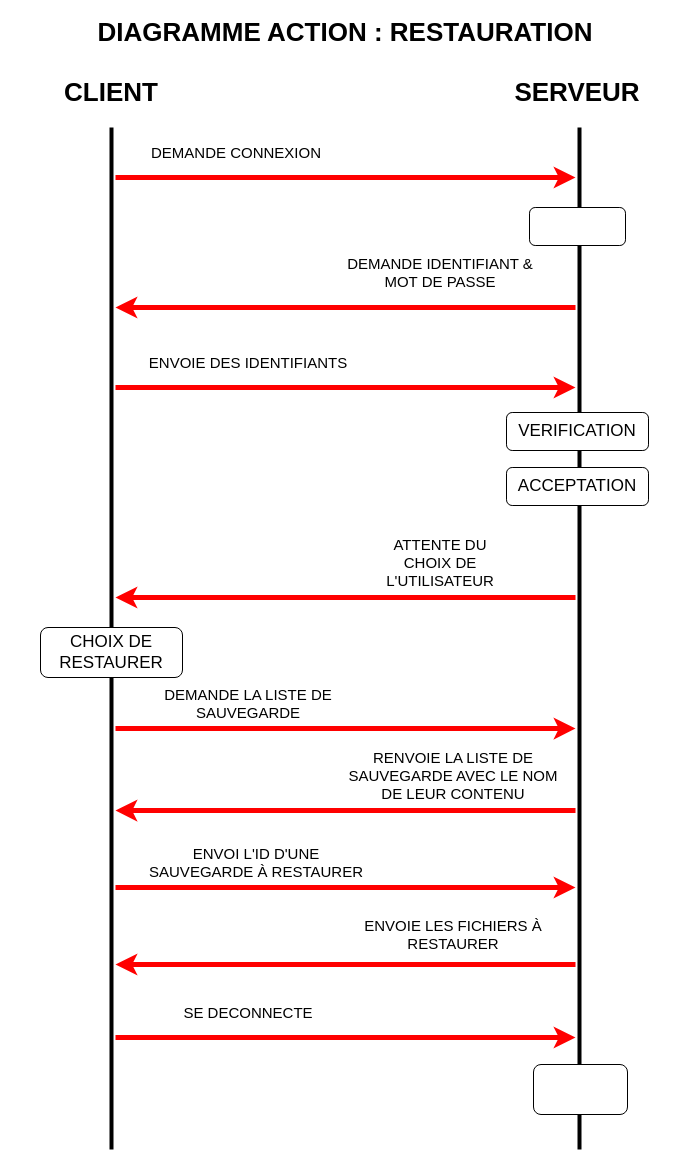
The diagram is 690 pixels wide and 1170 high, and some of its shapes have lost their labels. The shapes that lost their labels are listed below. From the top down, each one's centre as x and y in pixels, then its label:
At (x=577, y=226): "THREAD".
At (x=580, y=1089): "FERME LE THREAD".
